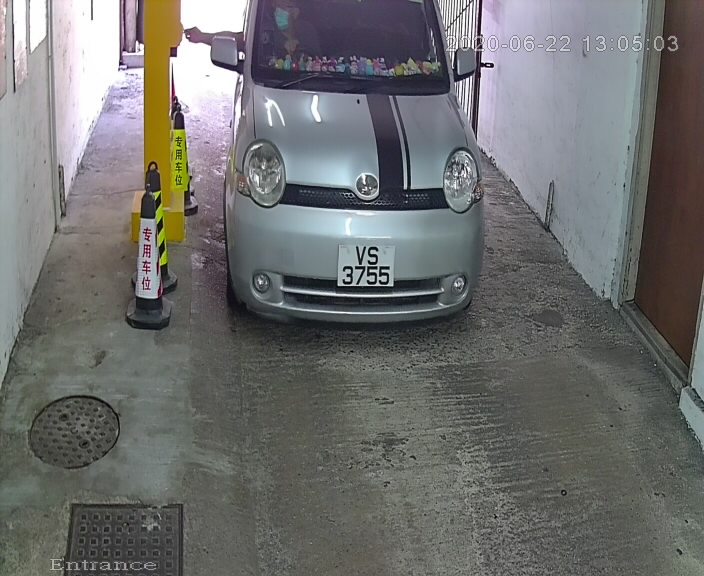privatecar: (194, 1, 528, 349)
